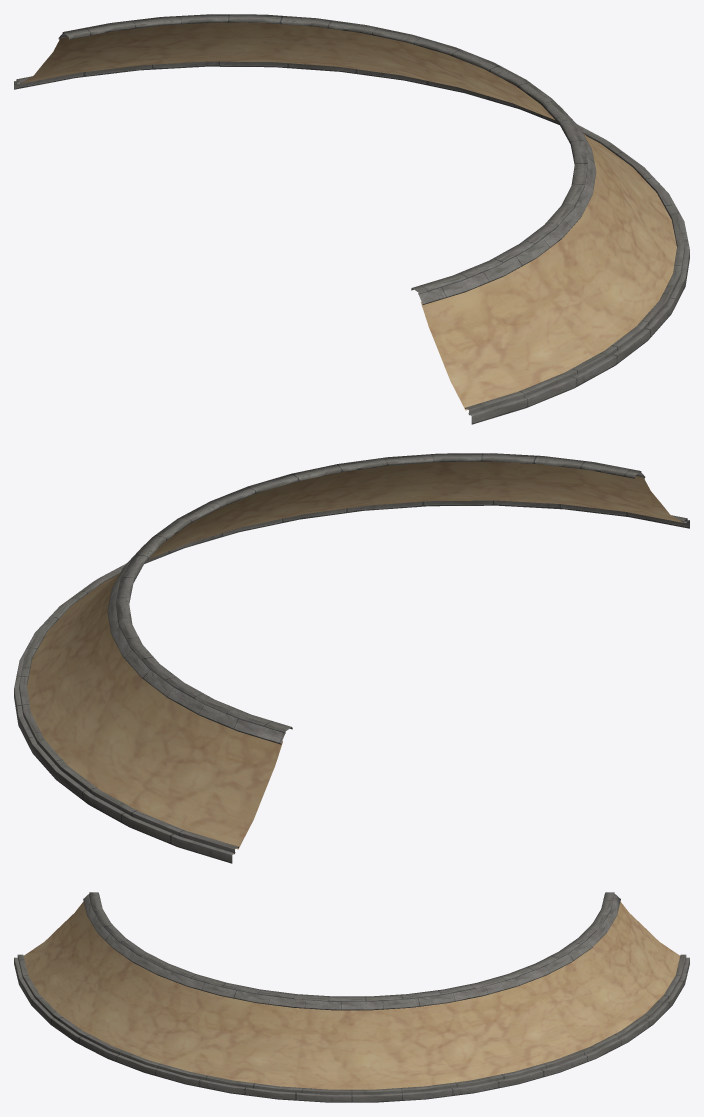
File: SM_ENV_LKNVLD_Ground_Hill_Round_R.FBX
3 renders of one model, top to bottom at view 1: azimuth 30°, elevation 25°; view 2: azimuth 150°, elevation 25°; view 3: azimuth 270°, elevation 25°, orthographic. The views are drawn at different scales.
Visible parts, largest first — view 1: SM_ENV_LKNVLD_Ground_Hill_Round_R; view 2: SM_ENV_LKNVLD_Ground_Hill_Round_R; view 3: SM_ENV_LKNVLD_Ground_Hill_Round_R.
Part boxes in pixels (box(x1,y1,x2,y2)): SM_ENV_LKNVLD_Ground_Hill_Round_R: box(14, 14, 689, 424); SM_ENV_LKNVLD_Ground_Hill_Round_R: box(14, 453, 689, 863); SM_ENV_LKNVLD_Ground_Hill_Round_R: box(14, 892, 689, 1102).
Size of the model in its own units: 2661 by 627 by 5444.
